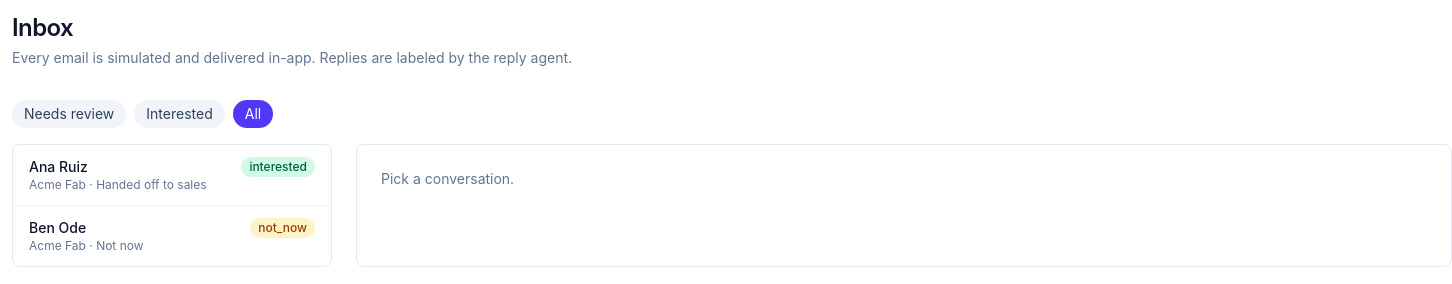
filters threads
Expected: the text "Ben Ode" is shown, [29,218,86,238]
Click the button "Interested". click: click(180, 114)
box: [134,100,225,128]
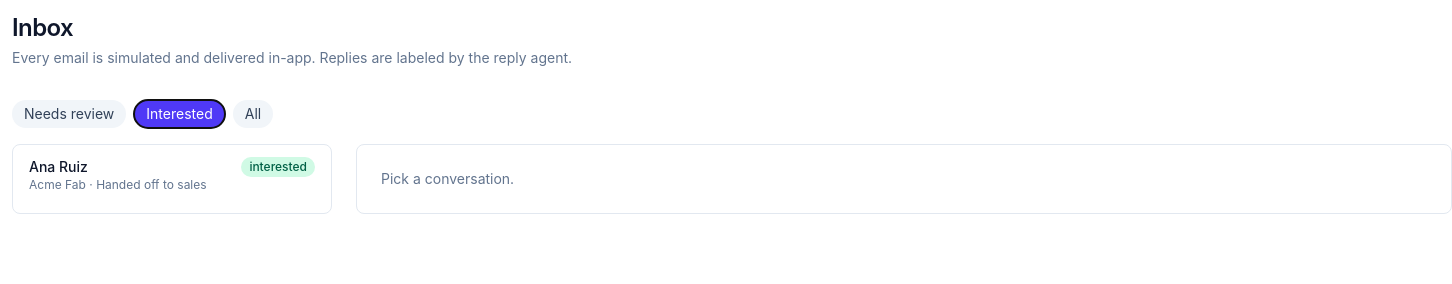
Expected: the text "Ana Ruiz" is shown, [29,157,88,177]
Result: the button "Ben Ode" is gone
